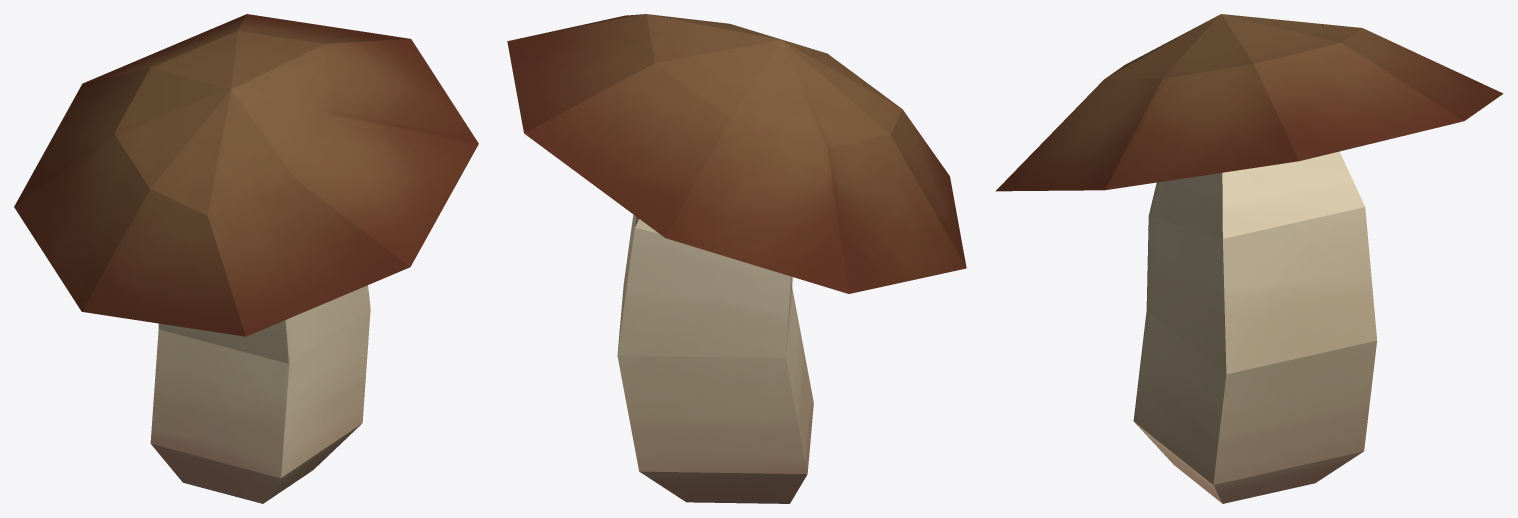
The model's file is ceps-001-6.glb.
3 views of the same model, side by side, from view 1: azimuth 30°, elevation 25°; view 2: azimuth 150°, elevation 25°; view 3: azimuth 270°, elevation 25° (orthographic). The views are drawn at different scales.
Parts seen in each view (by area): view 1: ceps.001_6; view 2: ceps.001_6; view 3: ceps.001_6.
Part boxes in pixels (box(x1,y1,x2,y2)): ceps.001_6: box(14, 14, 478, 503); ceps.001_6: box(507, 14, 966, 503); ceps.001_6: box(995, 14, 1503, 503).
Size of the model in its own units: 2.44 by 2.55 by 2.59.
Materials: 1 (1 with a texture image).
